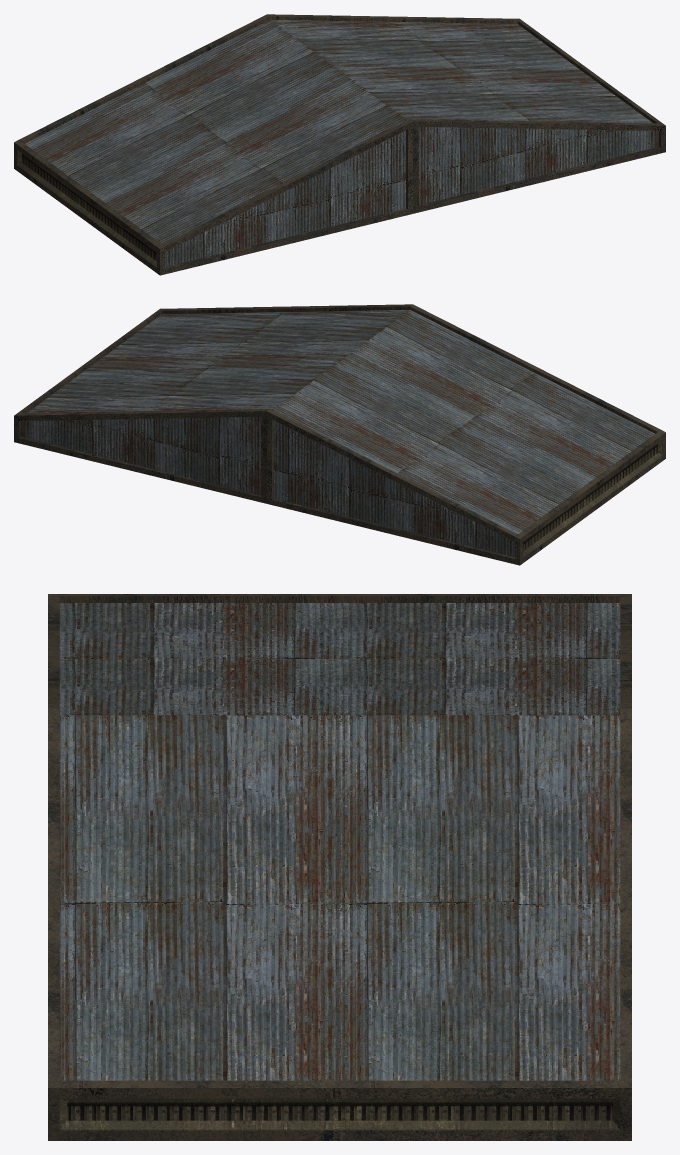
Rendered from roof_mh_3.glb.
3 views of the same model, one above another, from view 1: azimuth 30°, elevation 25°; view 2: azimuth 150°, elevation 25°; view 3: azimuth 270°, elevation 25° (orthographic). The views are drawn at different scales.
Parts seen in each view (by area): view 1: roof_mh_3; view 2: roof_mh_3; view 3: roof_mh_3.
Part boxes in pixels (x1,y1,x2,y2): roof_mh_3: (14, 14, 665, 275); roof_mh_3: (14, 304, 665, 565); roof_mh_3: (48, 594, 631, 1140).
Size of the model in its own units: 8 by 1.4 by 4.
6 materials, 6 textured.
